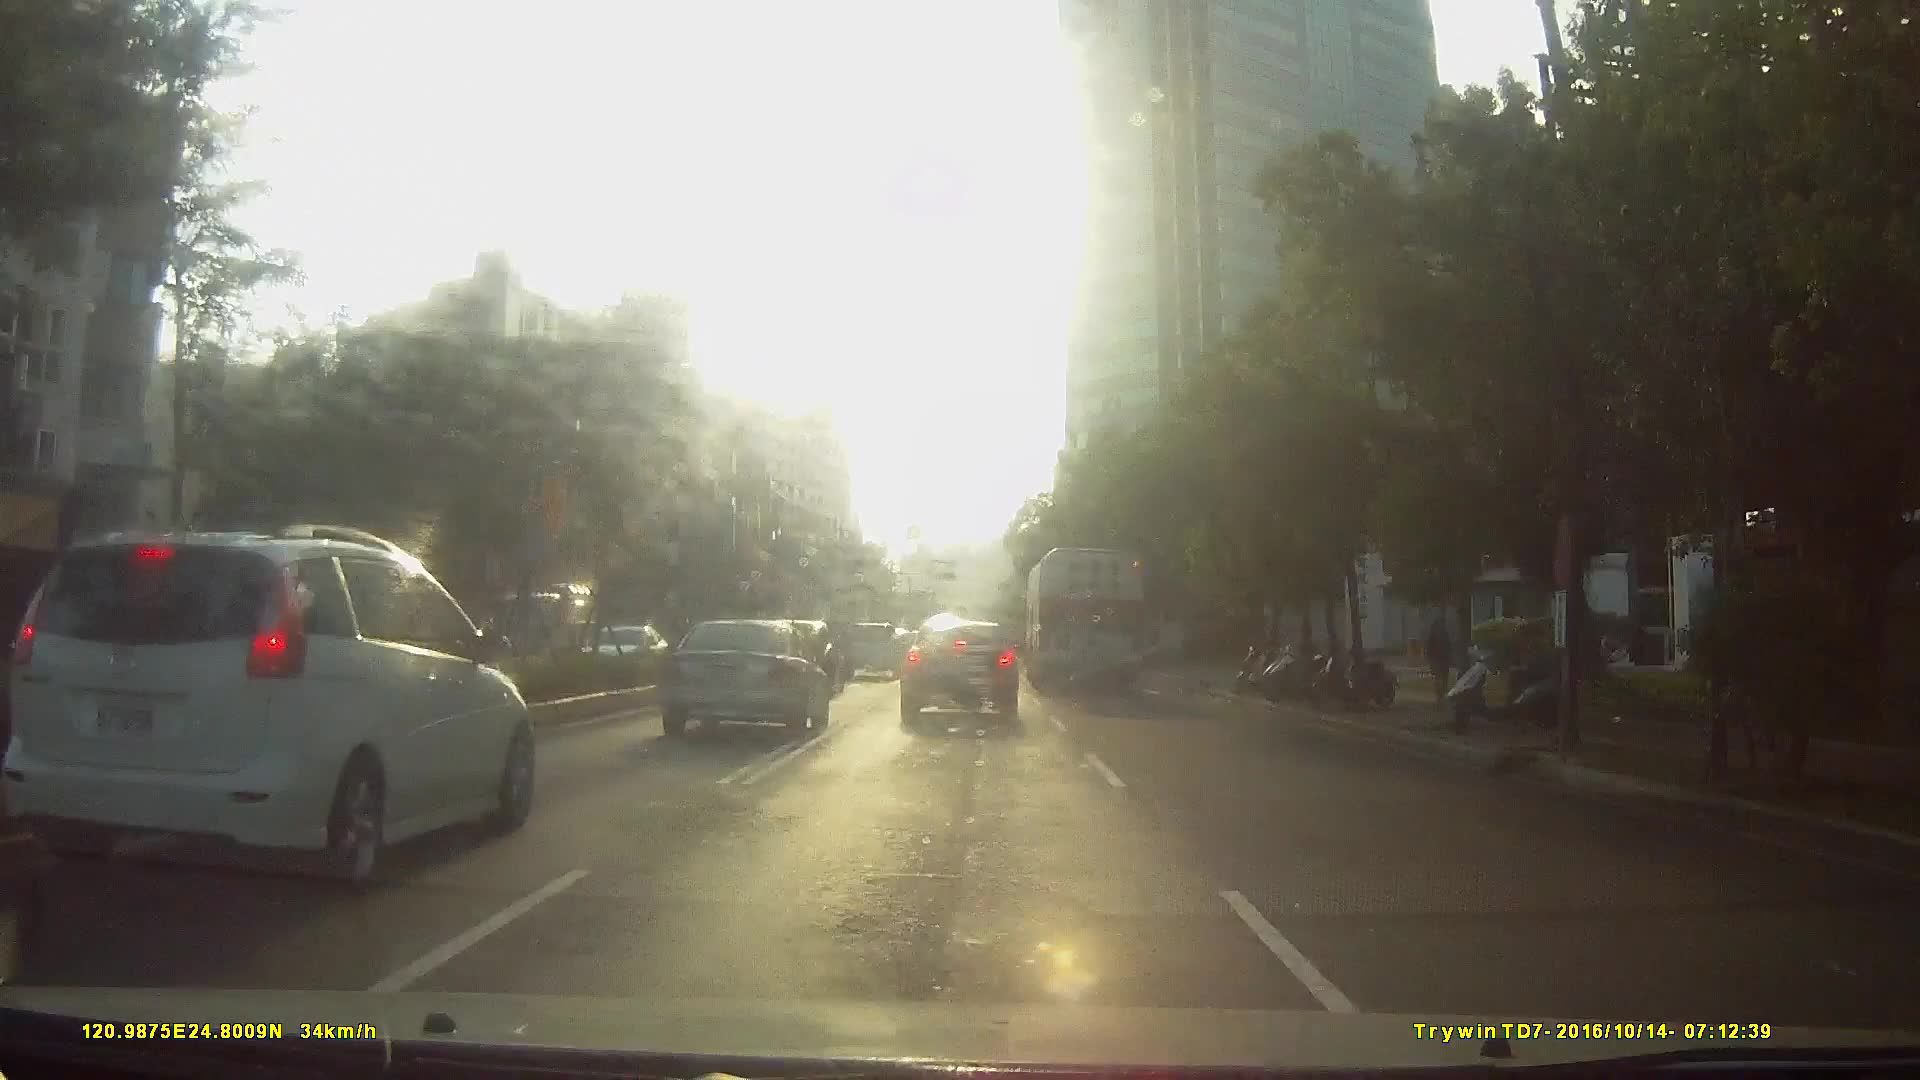pedestrian: (1422, 611, 1459, 707)
vehicle: (49, 503, 534, 903), (250, 556, 684, 868), (651, 611, 827, 738), (1022, 537, 1146, 692), (895, 616, 1021, 716), (489, 571, 588, 658), (837, 616, 901, 674)
